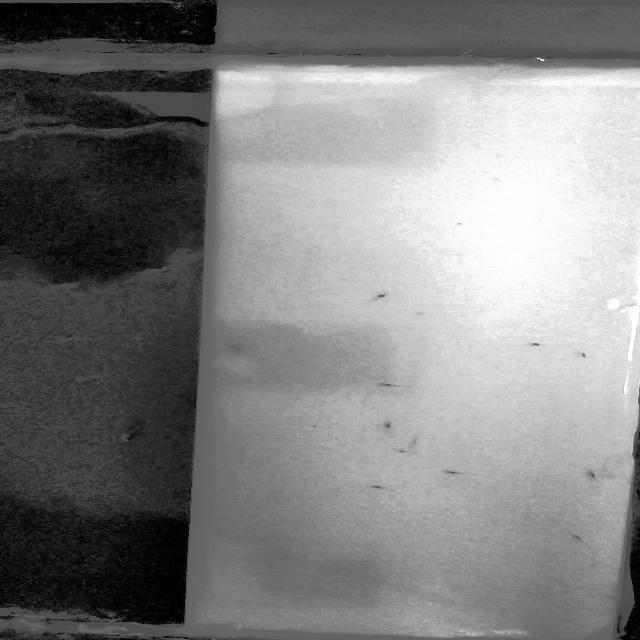shrimp: (372, 418, 403, 437), (367, 288, 399, 304), (375, 377, 405, 393), (566, 530, 596, 546), (220, 340, 247, 355), (531, 342, 559, 356), (367, 481, 394, 495), (576, 468, 601, 483), (436, 468, 466, 479), (569, 349, 595, 359)
